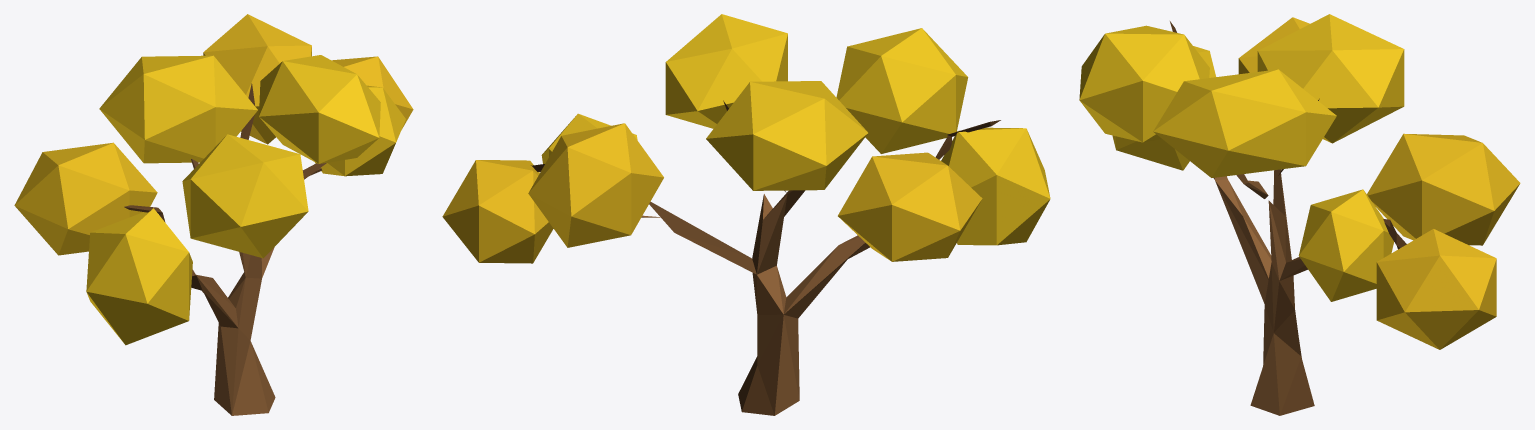
The model's file is guayacan_2_bloom_far.glb.
The picture shows the model from 3 angles, left to right: view 1: azimuth 30°, elevation 25°; view 2: azimuth 150°, elevation 25°; view 3: azimuth 270°, elevation 25°; orthographic projection. The views are drawn at different scales.
Visible parts, largest first — view 1: guayacan_2_bloom_far; view 2: guayacan_2_bloom_far; view 3: guayacan_2_bloom_far.
Part boxes in pixels (bbox=[...]): guayacan_2_bloom_far: bbox=[14, 14, 413, 415]; guayacan_2_bloom_far: bbox=[442, 14, 1050, 415]; guayacan_2_bloom_far: bbox=[1079, 14, 1520, 415].
Size of the model in its own units: 8.51 by 6.13 by 7.
